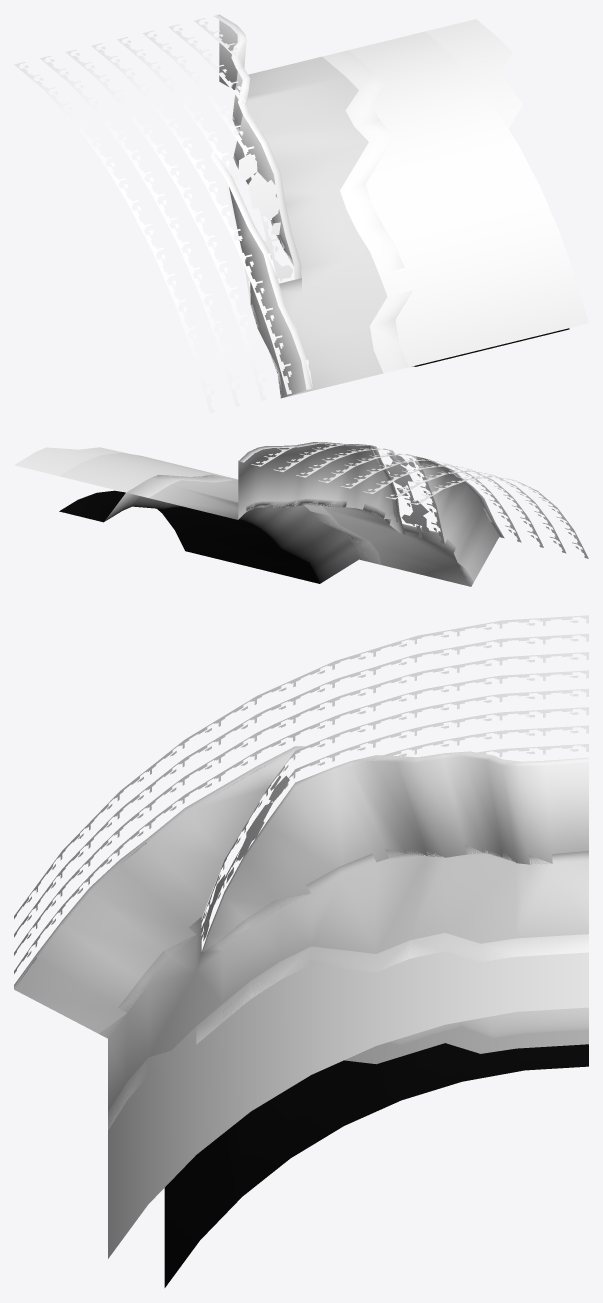
File: grd_Mse_e_S_0.dae
3 renders of one model, top to bottom at view 1: azimuth 30°, elevation 25°; view 2: azimuth 150°, elevation 25°; view 3: azimuth 270°, elevation 25°, orthographic. The views are drawn at different scales.
Parts seen in each view (by area): view 1: grd_Mse_e_S_0; view 2: grd_Mse_e_S_0; view 3: grd_Mse_e_S_0.
Boxes of the visible parts, box(x1,y1,x2,y2) form: grd_Mse_e_S_0: box(14, 14, 588, 413); grd_Mse_e_S_0: box(14, 442, 588, 586); grd_Mse_e_S_0: box(14, 615, 588, 1287).
Size of the model in its own units: 576 by 308 by 423.
Materials: 7 (1 with a texture image).
